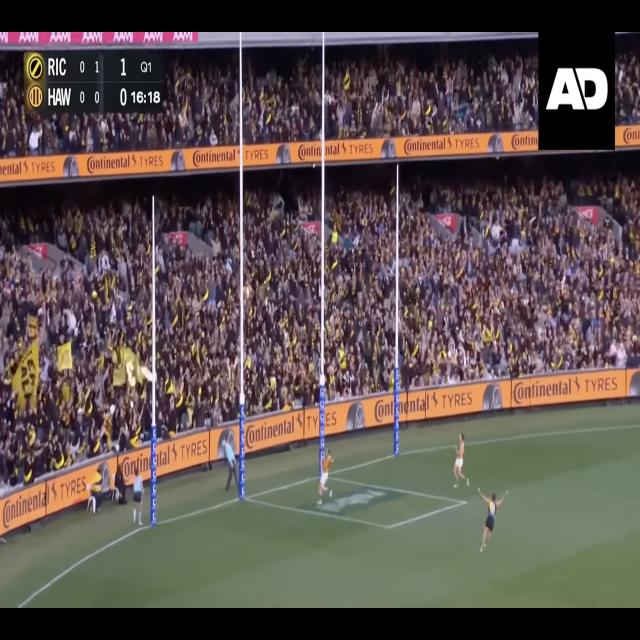crowd: (399, 151, 638, 387), (0, 175, 151, 498), (156, 170, 239, 441), (243, 166, 322, 415), (0, 75, 239, 156), (322, 160, 396, 400), (327, 58, 536, 139), (240, 72, 324, 140), (617, 47, 638, 121)
